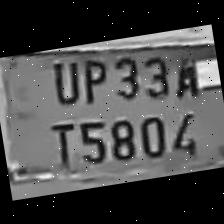0: (132, 106, 170, 160)
3: (105, 46, 144, 103), (134, 44, 172, 100)
4: (162, 102, 204, 160)
5: (71, 113, 110, 168)
8: (102, 110, 138, 166)
A: (166, 40, 203, 102)
P: (74, 49, 113, 106)
T: (43, 114, 82, 174)
U: (44, 52, 83, 108)
